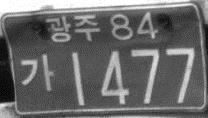1: (69, 49, 86, 108)
4: (98, 49, 129, 106), (135, 12, 158, 40)
7: (131, 45, 161, 105), (165, 46, 195, 106)
8: (108, 12, 133, 42)
가: (19, 53, 55, 91)
광주_O: (45, 13, 101, 43)
